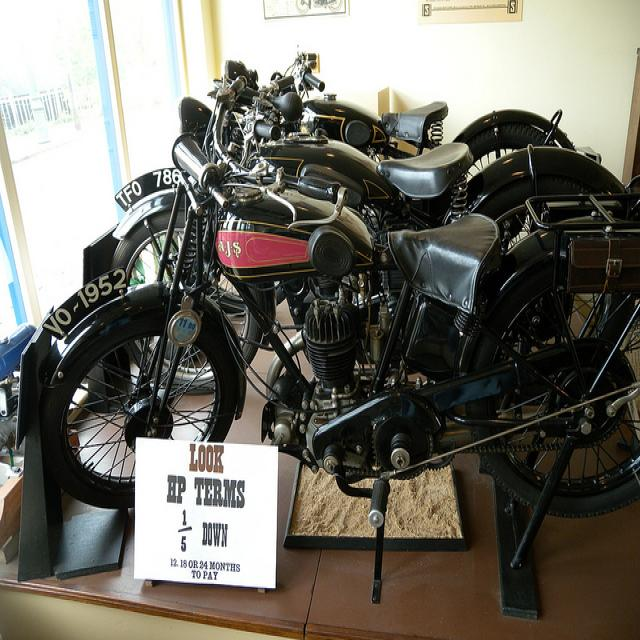motor: (28, 61, 640, 610), (73, 105, 620, 285), (180, 45, 575, 170)
